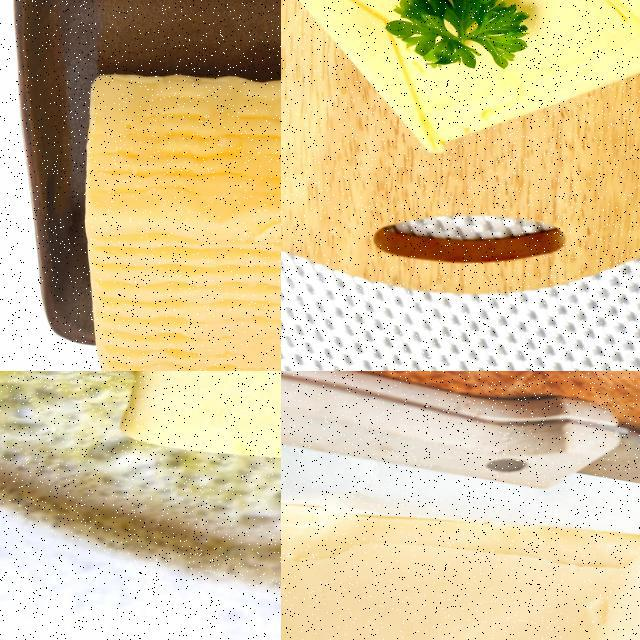Butter: (281, 462, 639, 639), (84, 67, 280, 370), (281, 0, 639, 159), (115, 371, 280, 486)
